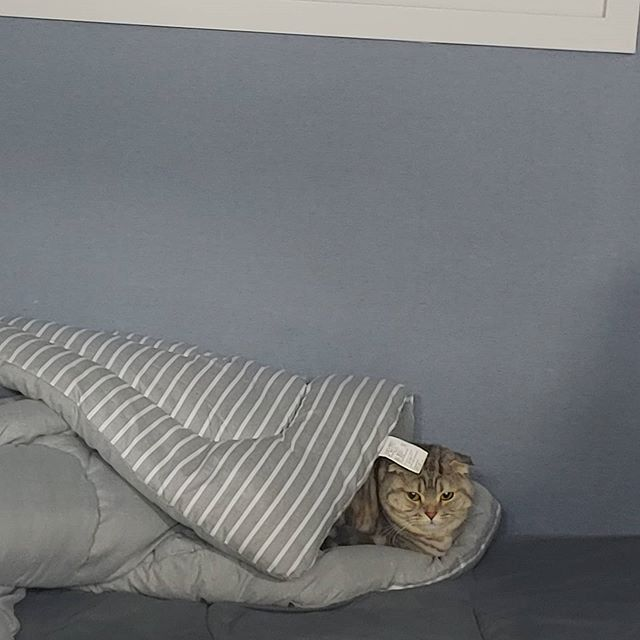cat: (378, 437, 477, 536)
